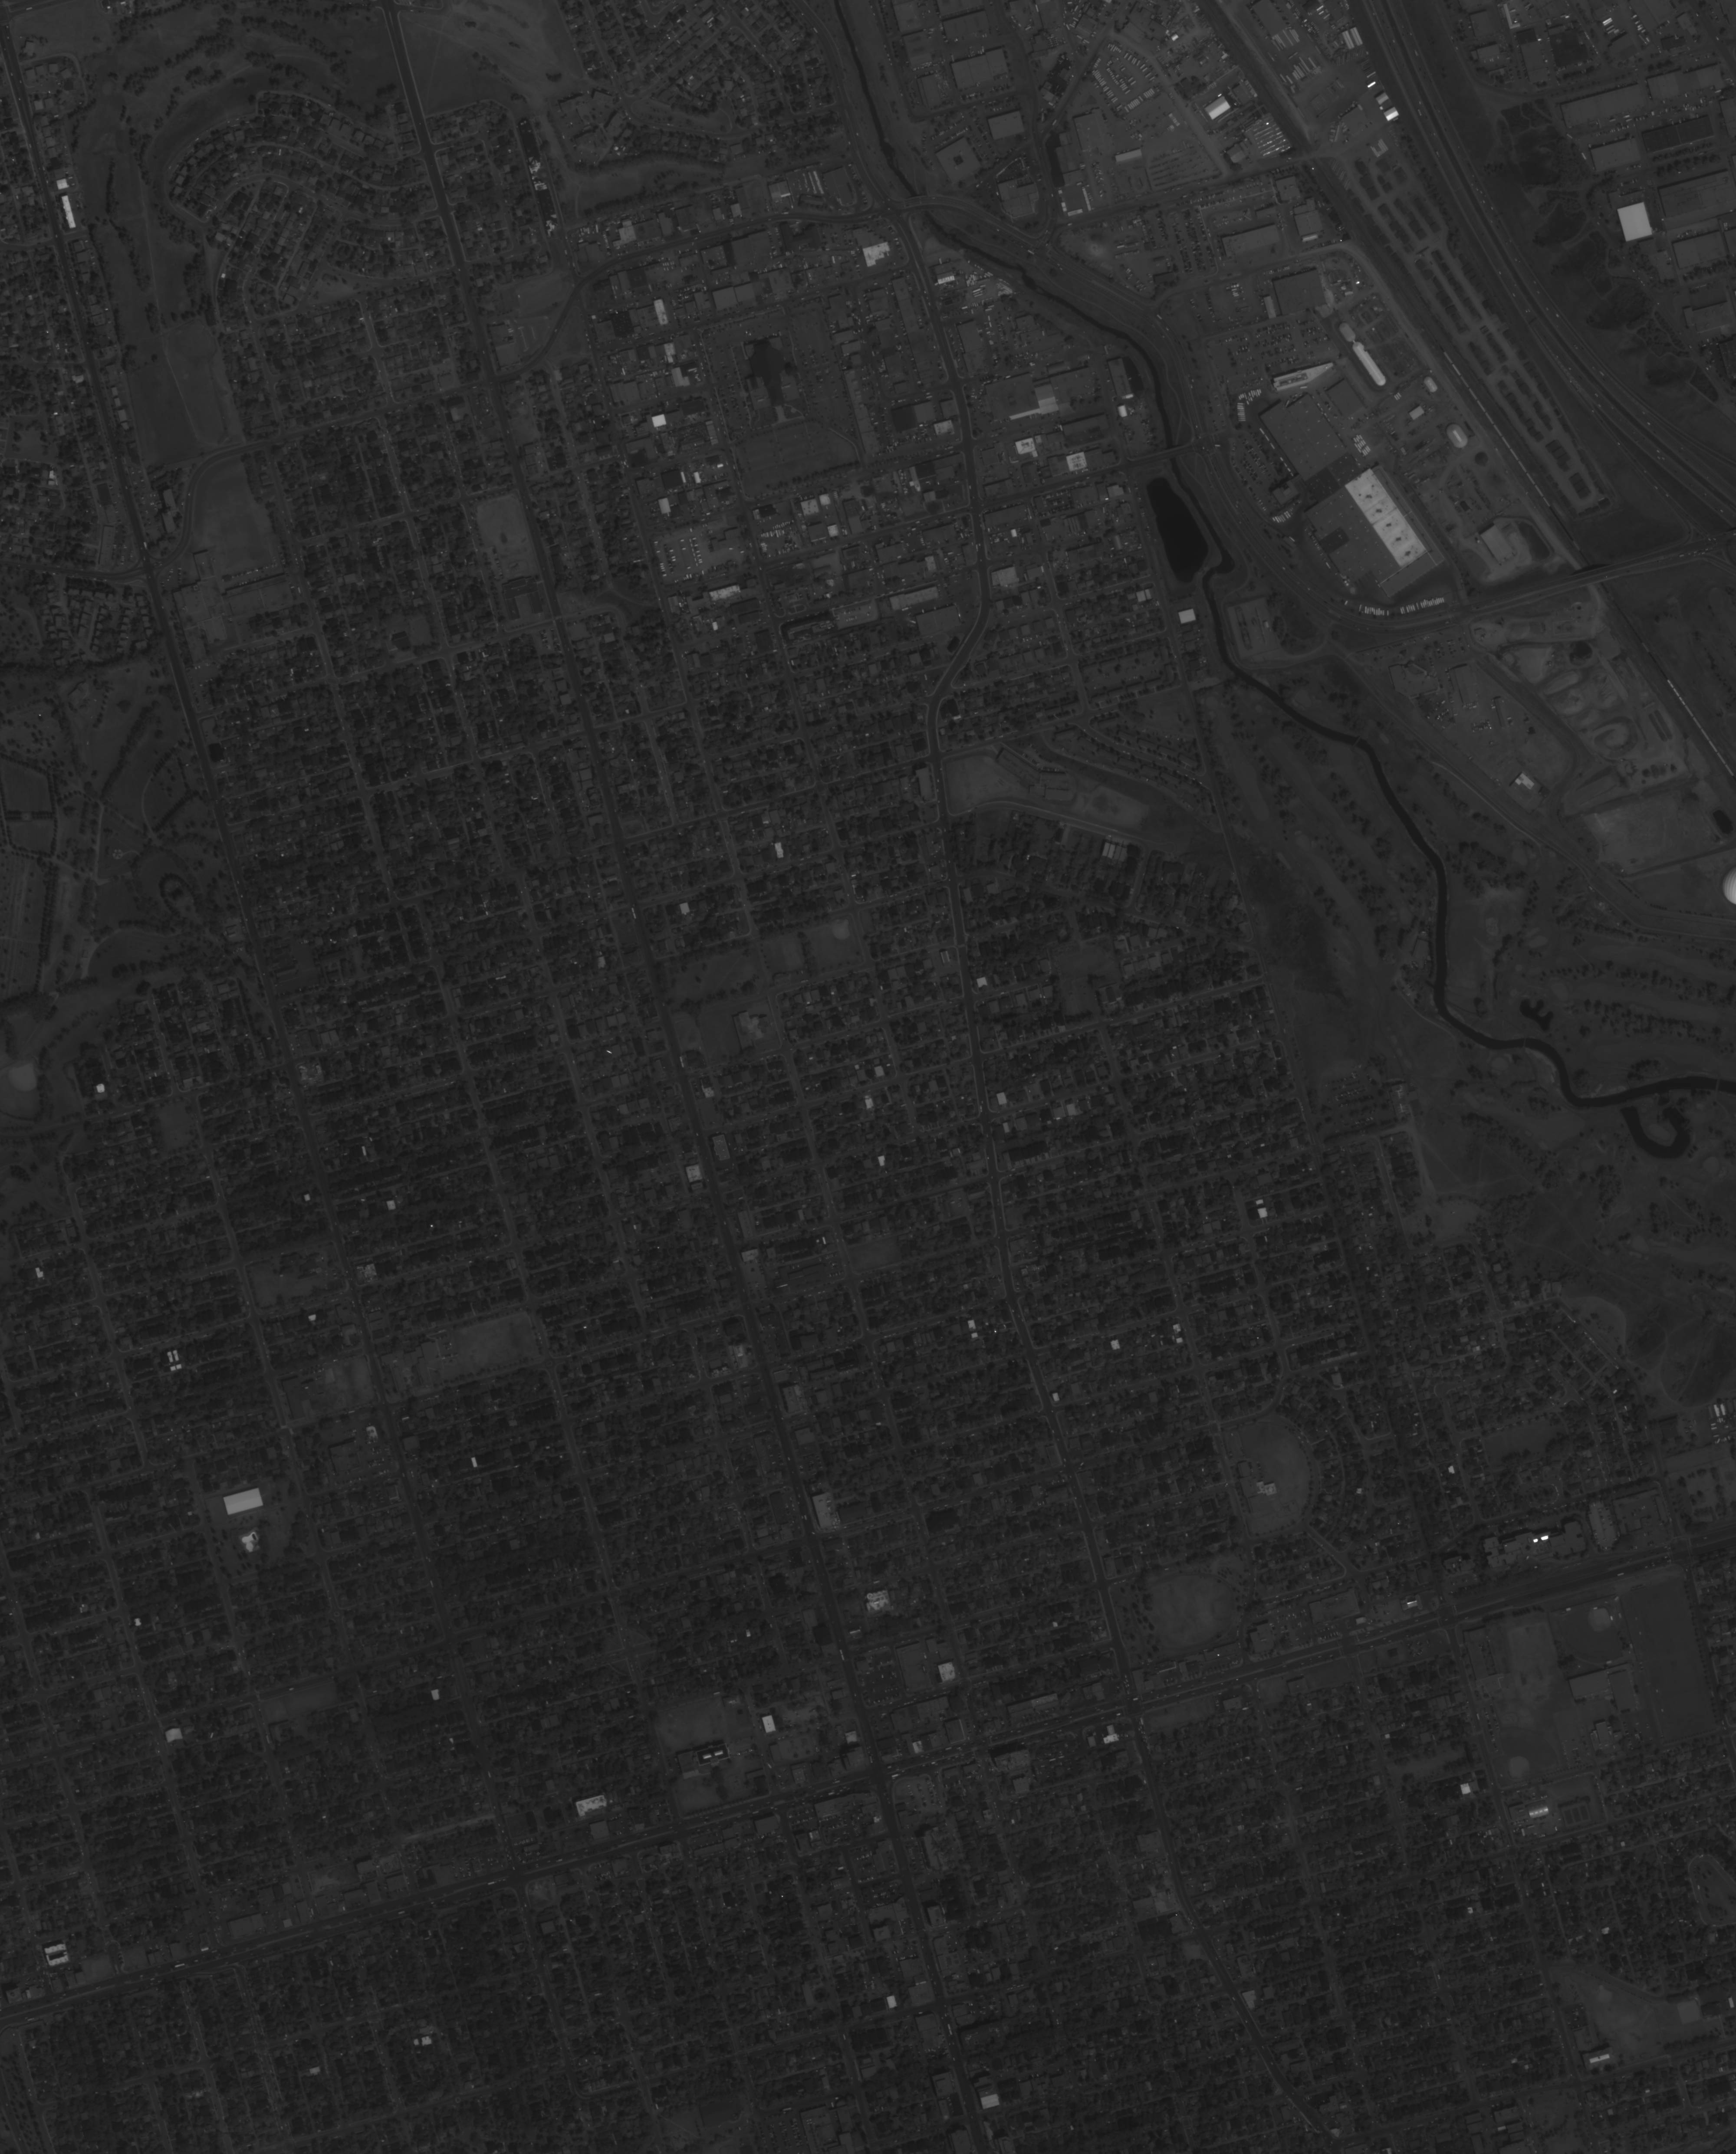baseball diamond: (2, 1059, 44, 1100), (1500, 1750, 1536, 1782), (1584, 1603, 1616, 1637), (825, 914, 856, 946)
bridge: (903, 193, 935, 216), (1655, 1098, 1678, 1118), (1162, 445, 1187, 462)
